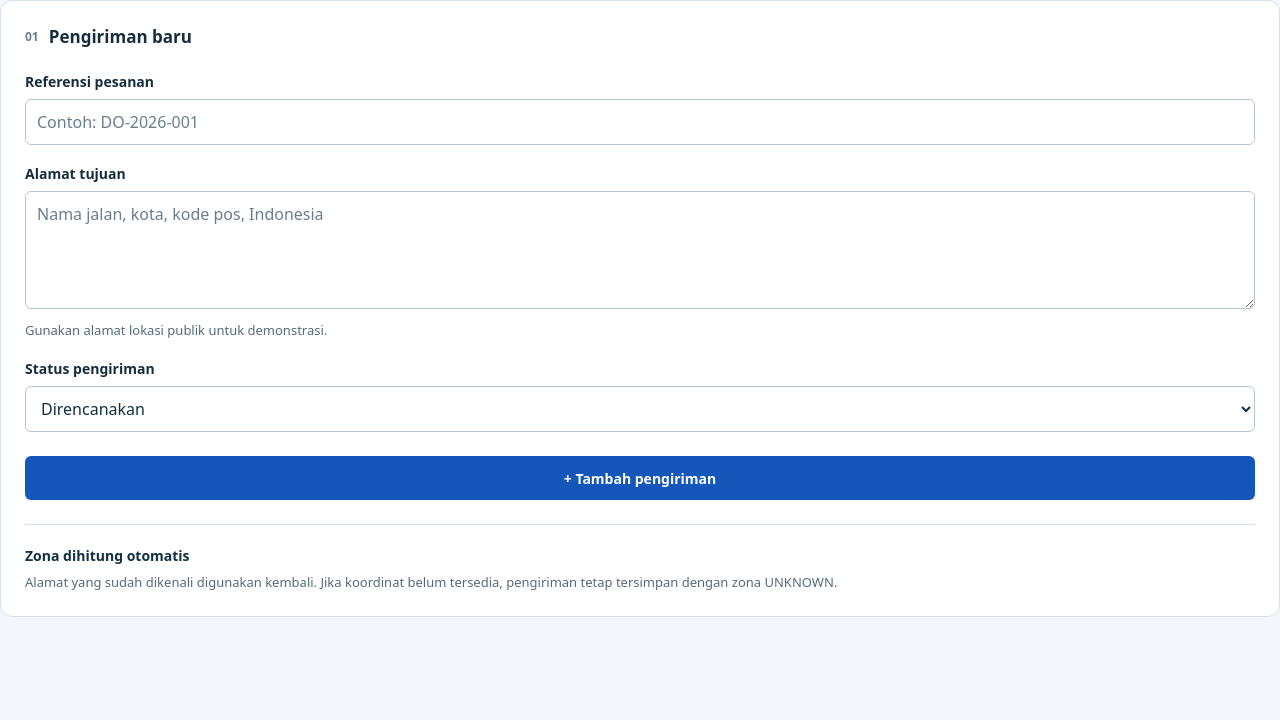
Test: delivery form submission › preserves input and displays field errors when the server rejects a save
Type "DO-001" into the field labelled "Referensi pesanan".
click(640, 122); type("DO-001")  # box [25,99,1255,145]
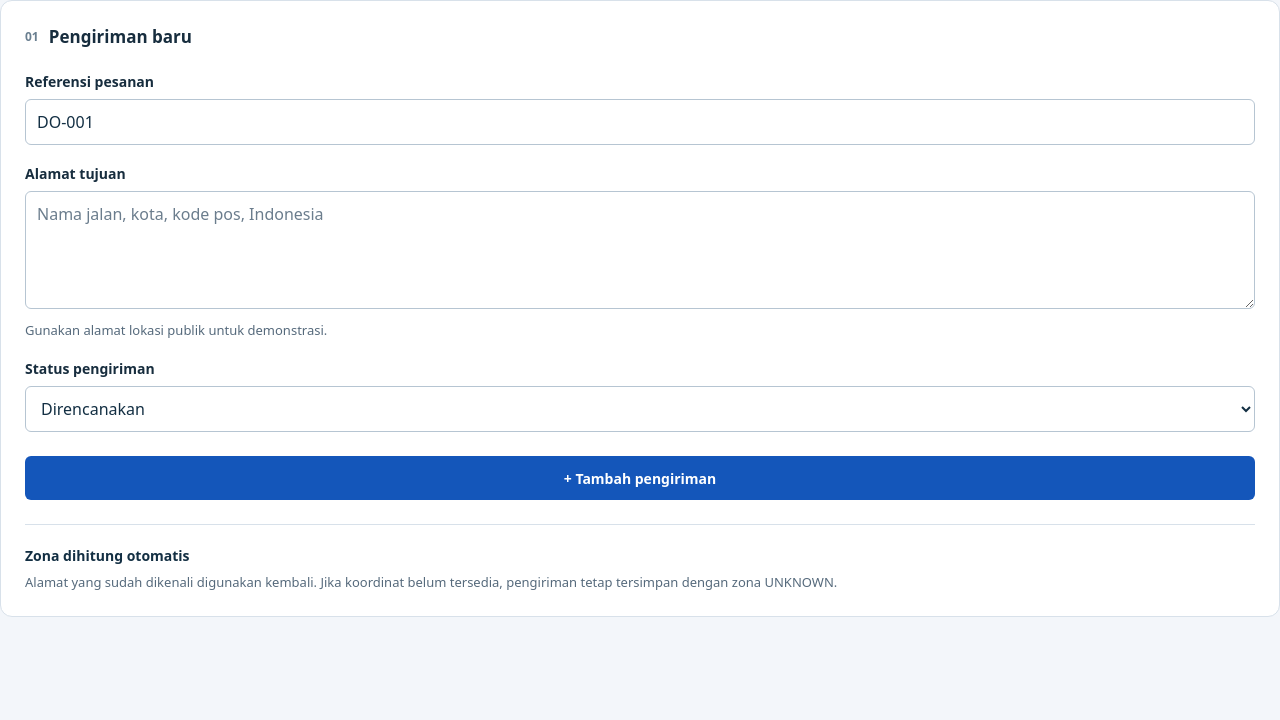
Type "Monas Jakarta" into the text box labelled "Alamat tujuan".
click(640, 250); type("Monas Jakarta")  # box [25,191,1255,309]
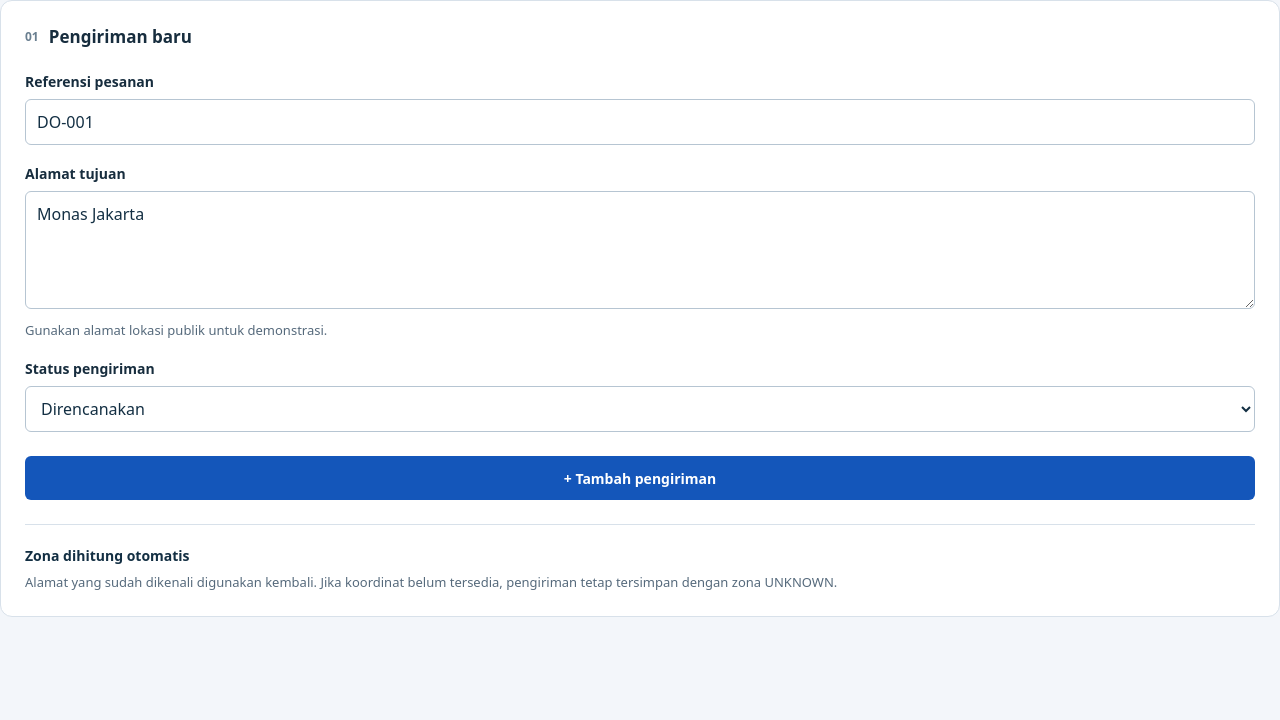
Click the button "+ Tambah pengiriman".
click(640, 478)  # box [25,456,1255,500]
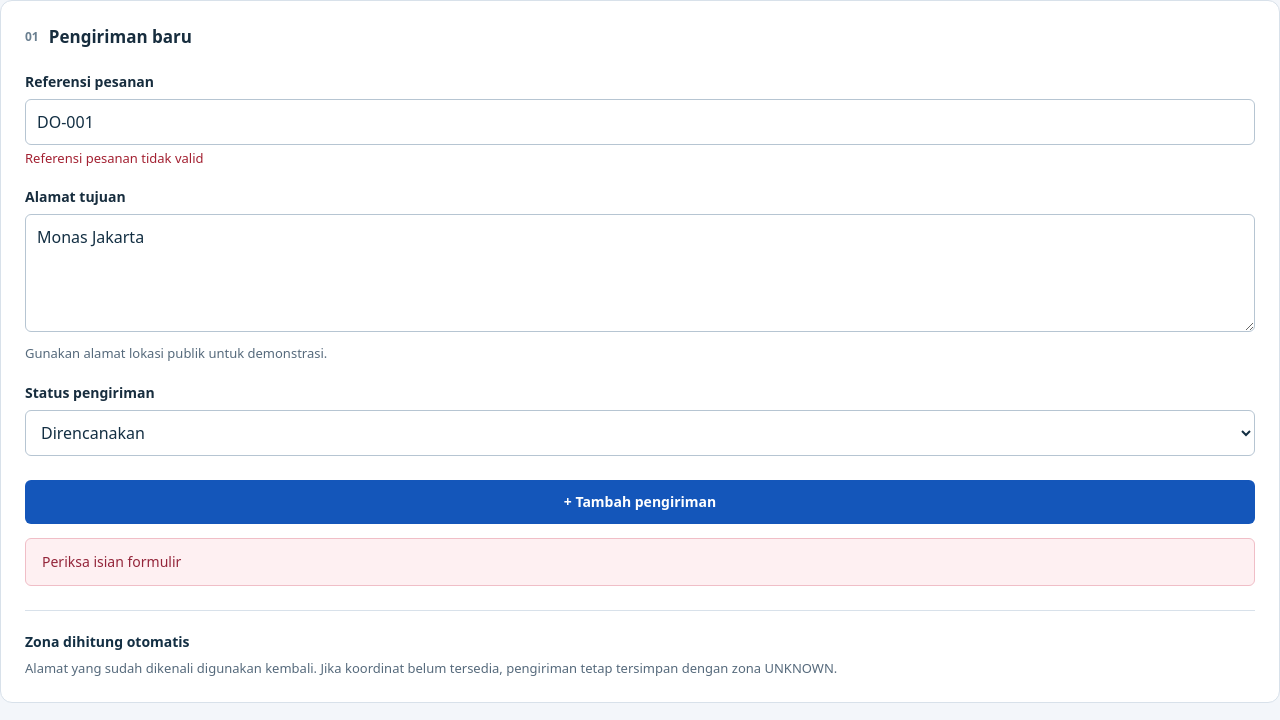
Check: the message reads "Periksa isian formulir", box [42,552,181,571]
Check: the text "Referensi pesanan tidak valid" is shown, box [25,149,204,167]
